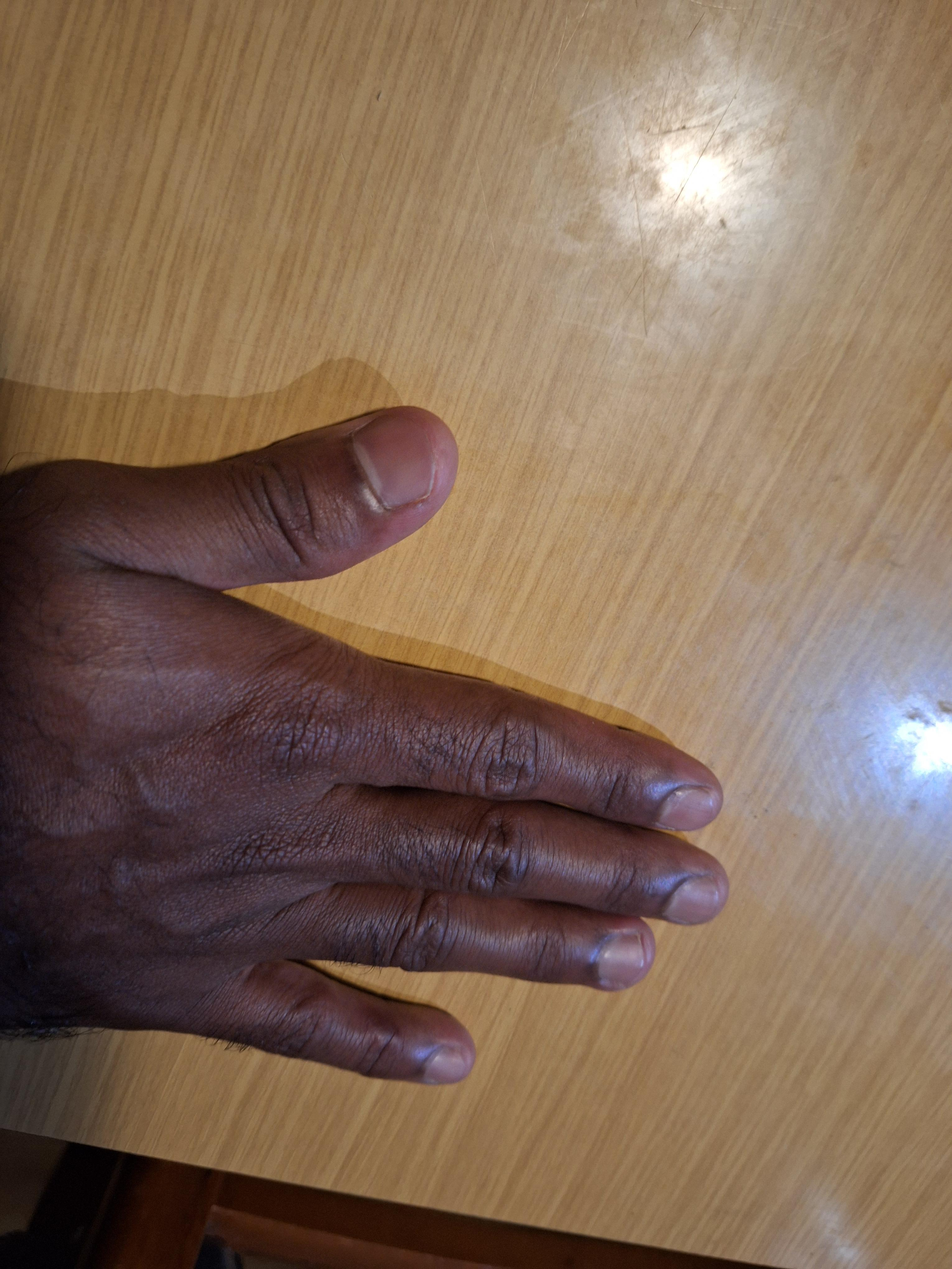Fingernail: (354, 413, 435, 508), (663, 876, 719, 923), (656, 788, 713, 830), (599, 933, 644, 985), (423, 1046, 465, 1085)
